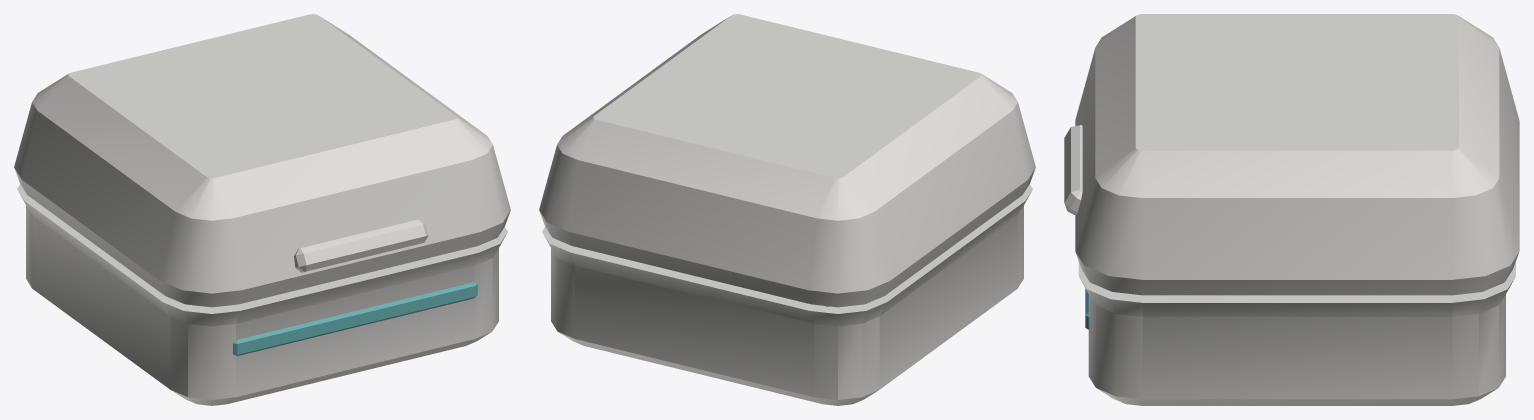
Rendered from fast-food-and-drive-thru-burger-clamshell-58c6f29c__16162.glb.
3 views of the same model, side by side, from view 1: azimuth 30°, elevation 25°; view 2: azimuth 150°, elevation 25°; view 3: azimuth 270°, elevation 25° (orthographic). The views are drawn at different scales.
Parts seen in each view (by area): view 1: clamshell-lid, burger-clamshell; view 2: clamshell-lid, burger-clamshell; view 3: clamshell-lid, burger-clamshell.
Part boxes in pixels (box(x1,y1,x2,y2)): clamshell-lid: box(14, 14, 510, 307); burger-clamshell: box(17, 184, 507, 405); clamshell-lid: box(539, 14, 1035, 307); burger-clamshell: box(542, 184, 1032, 405); clamshell-lid: box(1064, 14, 1519, 295); burger-clamshell: box(1078, 261, 1515, 405).
Bounding box in the file's own units: 0.132 × 0.08 × 0.1352.
